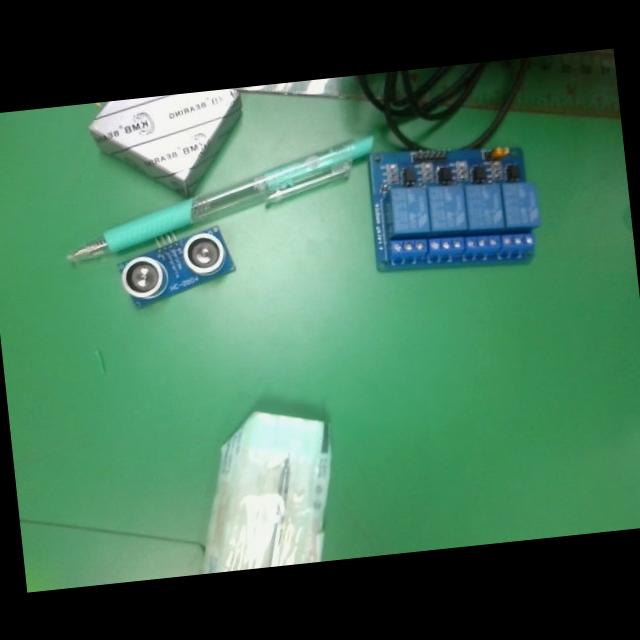relay_module: (364, 136, 544, 277)
triple_syringe: (186, 400, 344, 573)
ultrasonic_hc-sr04: (114, 222, 239, 311)
